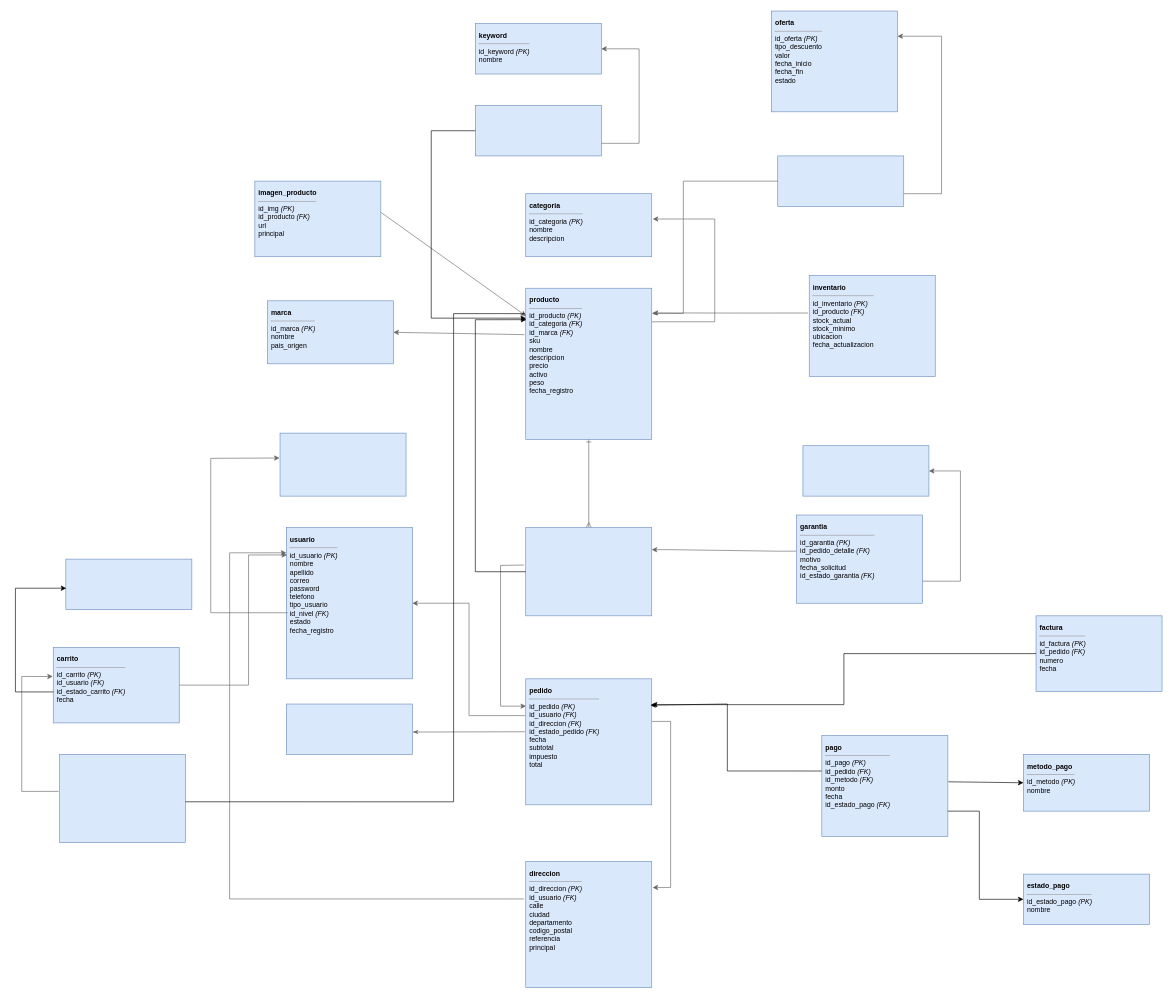
Some shapes in this 1173 by 999 pixel diagram are drawn without their labels. The shapes that lost their labels are listed below. From the top down, each one's centre as x and y in pixels, then its label:
At [538,130]: "producto_keyword id_producto (PK/FK) id_keyword (PK/FK)".
At [840,180]: "producto_oferta id_producto (PK/FK) id_oferta (PK/FK)".
At [342,464]: "nivel_fidelidad id_nivel (PK) nombre porcentaje_descuento".
At [865,470]: "estado_garantia id_estado_garantia (PK) nombre".
At [128,584]: "estado_carrito id_estado_carrito (PK) nombre".
At [588,571]: "pedido_detalle id_detalle (PK) id_pedido (FK) id_producto (FK) cantidad precio".
At [349,728]: "estado_pedido id_estado_pedido (PK) nombre".
At [122,798]: "carrito_detalle id_detalle (PK) id_carrito (FK) id_producto (FK) cantidad precio".
